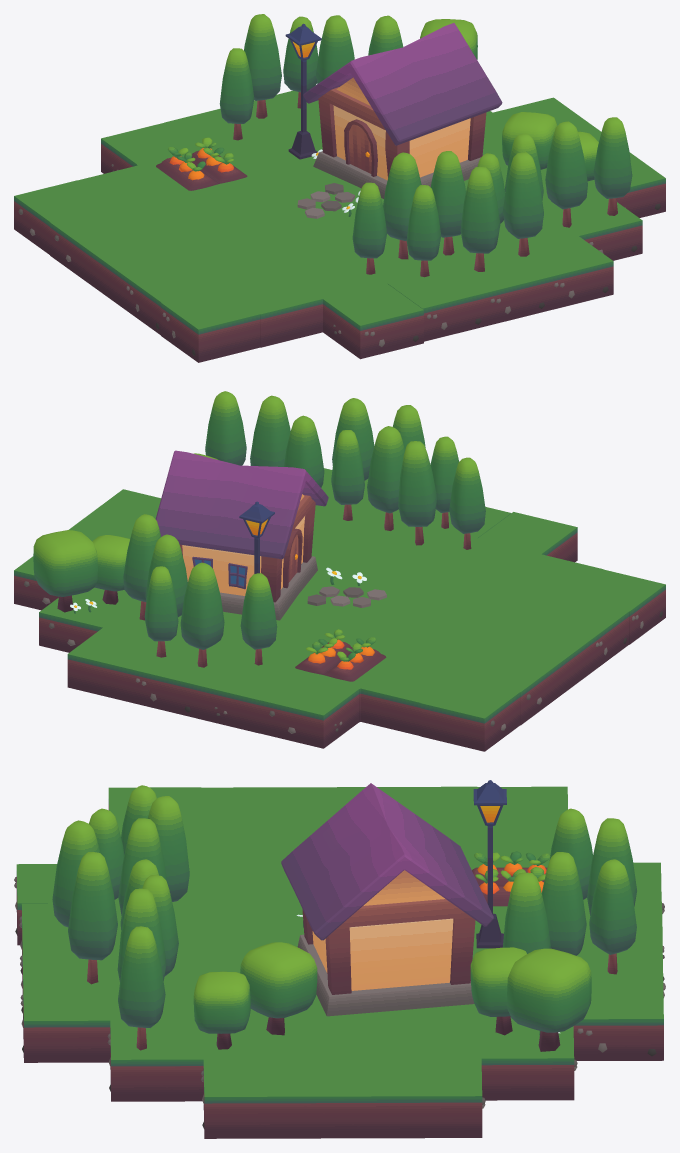
File: start.glb
3 views of the same model, one above another, from view 1: azimuth 30°, elevation 25°; view 2: azimuth 150°, elevation 25°; view 3: azimuth 270°, elevation 25° (orthographic). The views are drawn at different scales.
Visible parts, largest first — view 1: House.003, Cube.056_Material.005_0.001, Cube.055_Material.005_0.004, Cube.055_Material.005_0.003, Cube.051_Material.005_0.001, Cube.046_Material.005_0.001, Cube.041_Material.005_0.001, Cube.054_Material.005_0.002, Cube.053_Material.005_0.002, Cube.055_Material.005_0.002, Cube.053_Material.005_0.004, Cube.035 (+43 smaller); view 2: House.003, Cube.053_Material.005_0.004, Cube.052_Material.005_0.001, Cube.047_Material.005_0.001, Cube.036_Material.005_0.001, Cube.053_Material.005_0.003, Cube.042_Material.005_0.001, TreeSquare.005, Cube.054_Material.005_0.002, Cube.055_Material.005_0.004, Cube.053_Material.005_0.002, Cube.055_Material.005_0.002 (+43 smaller); view 3: House.003, Cube.034_Material.005_0.001, Cube.032_Material.005_0.001, Cube.033_Material.005_0.001, Cube.041_Material.005_0.001, Cube.035, Cube.036_Material.005_0.001, Tile.002, TreeSquare.005, TreeSquare.009, TreeTall.012_Material.005_0.001, TreeTall.016 (+44 smaller).
Part boxes in pixels (x1,y1,x2,y2): House.003: (303, 23, 502, 198); Cube.056_Material.005_0.001: (323, 283, 423, 359); Cube.055_Material.005_0.004: (161, 288, 260, 362); Cube.055_Material.005_0.003: (224, 272, 322, 347); Cube.051_Material.005_0.001: (386, 266, 486, 341); Cube.046_Material.005_0.001: (451, 250, 549, 325); Cube.041_Material.005_0.001: (515, 236, 613, 310); Cube.054_Material.005_0.002: (87, 233, 186, 309); Cube.053_Material.005_0.002: (50, 207, 150, 281); Cube.055_Material.005_0.002: (125, 261, 225, 335); Cube.053_Material.005_0.004: (14, 180, 114, 254); Cube.035: (543, 194, 642, 260); House.003: (155, 450, 328, 620); Cube.053_Material.005_0.004: (420, 677, 520, 751); Cube.052_Material.005_0.001: (260, 673, 359, 748); Cube.047_Material.005_0.001: (195, 658, 295, 733); Cube.036_Material.005_0.001: (67, 627, 166, 702); Cube.053_Material.005_0.003: (360, 661, 457, 735); Cube.042_Material.005_0.001: (131, 643, 230, 717); TreeSquare.005: (33, 530, 97, 612); Cube.054_Material.005_0.002: (493, 622, 593, 697); Cube.055_Material.005_0.004: (565, 569, 665, 644); Cube.053_Material.005_0.002: (457, 650, 556, 725); Cube.055_Material.005_0.002: (530, 596, 628, 670); House.003: (281, 783, 493, 1016); Cube.034_Material.005_0.001: (201, 1058, 296, 1138); Cube.032_Material.005_0.001: (389, 1057, 485, 1138); Cube.033_Material.005_0.001: (296, 1059, 389, 1138); Cube.041_Material.005_0.001: (20, 981, 115, 1062); Cube.035: (107, 1020, 203, 1101); Cube.036_Material.005_0.001: (573, 980, 663, 1060); Tile.002: (480, 1019, 577, 1100); TreeSquare.005: (507, 948, 591, 1051); TreeSquare.009: (240, 942, 317, 1035); TreeTall.012_Material.005_0.001: (68, 852, 117, 984); TreeTall.016: (118, 926, 165, 1050).
Size of the model in its own units: 7.97 by 2.46 by 7.04.
1 material, 1 textured.
